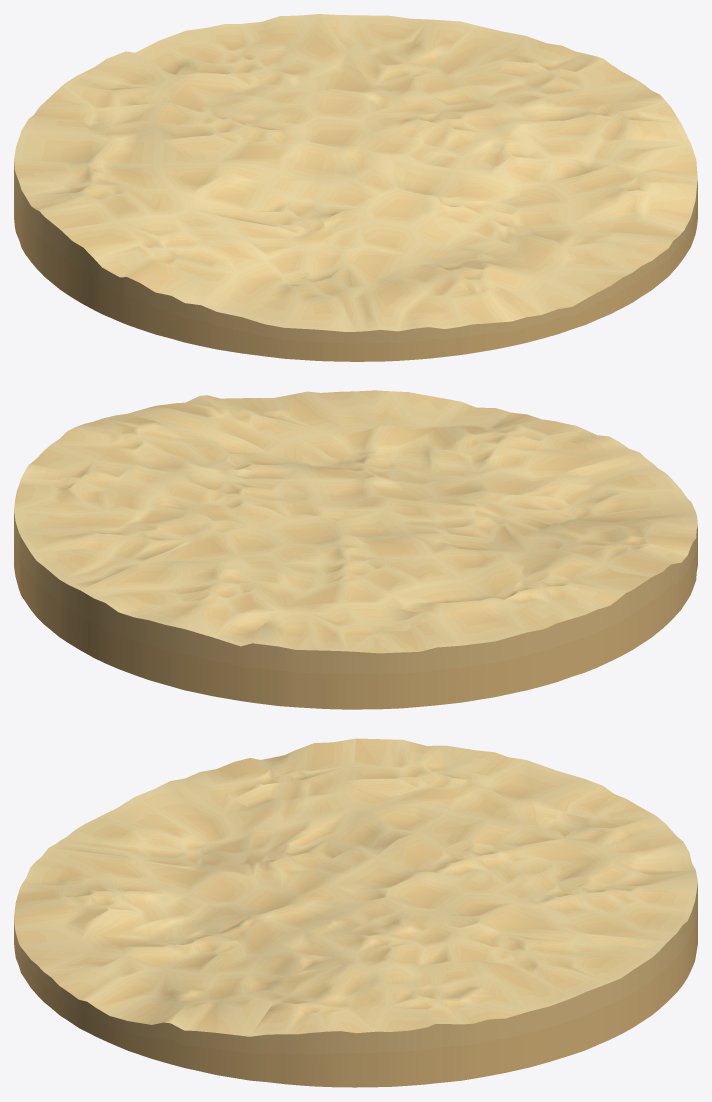
File: Land.fbx
3 views of the same model, one above another, from view 1: azimuth 30°, elevation 25°; view 2: azimuth 150°, elevation 25°; view 3: azimuth 270°, elevation 25° (orthographic).
Visible parts, largest first — view 1: Land; view 2: Land; view 3: Land.
Part boxes in pixels (x1=…): Land: x1=14, y1=14, x2=697, y2=361; Land: x1=14, y1=390, x2=697, y2=709; Land: x1=14, y1=738, x2=697, y2=1087.
Size of the model in its own units: 1869 by 186 by 1871.
Materials: 1 (1 with a texture image).
